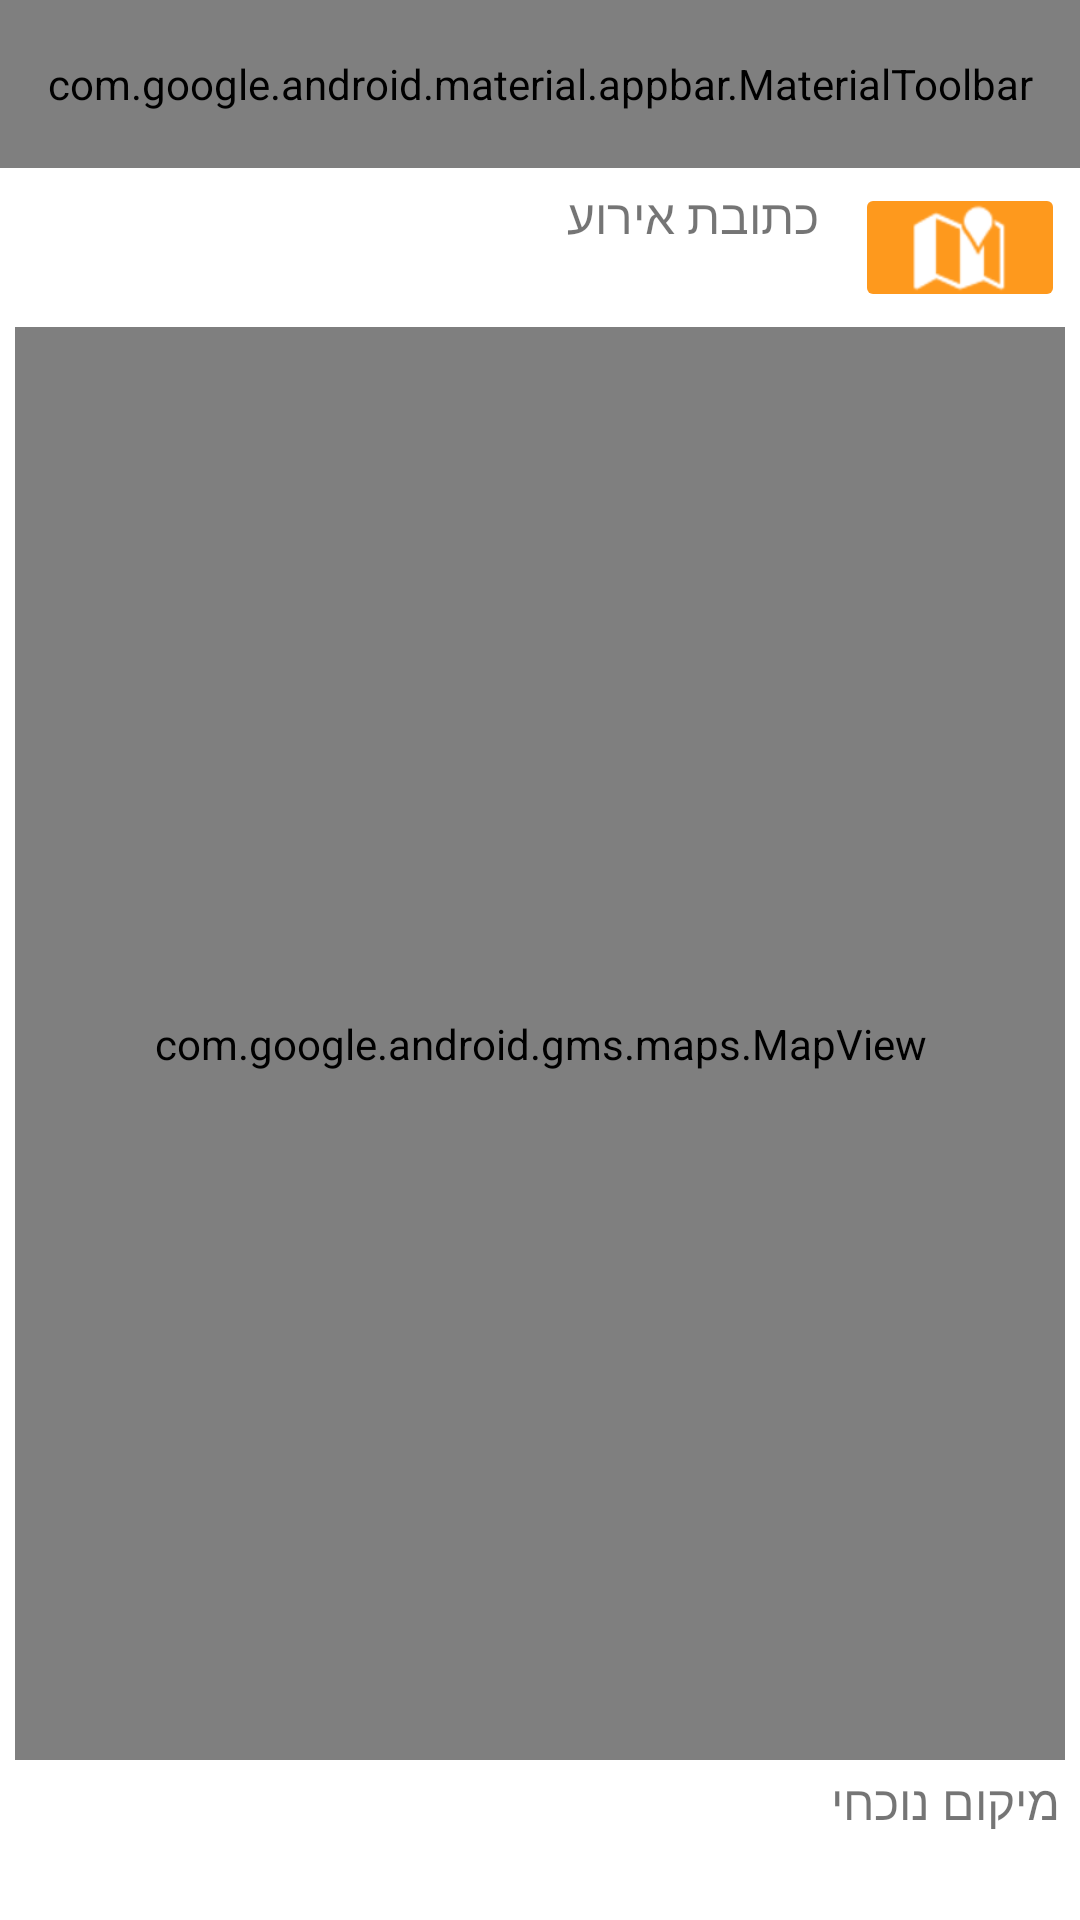

Where icons sit on this 1080px×1920px app screen, as (x1, y1, x2, y2):
map: (867, 201, 1053, 294)
